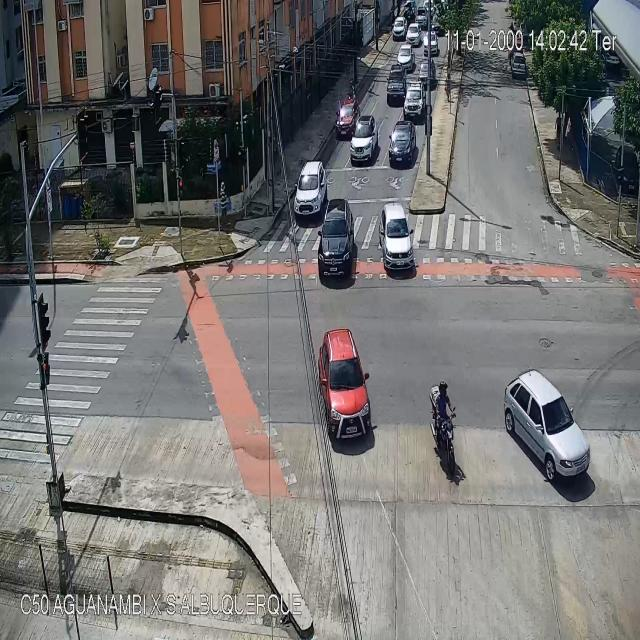Car: (505, 368, 594, 483), (318, 327, 373, 446), (318, 201, 356, 281), (380, 203, 415, 271), (294, 158, 327, 220), (349, 116, 377, 163), (388, 118, 416, 163), (336, 97, 358, 136), (386, 65, 408, 102), (404, 83, 425, 115), (397, 44, 415, 69), (418, 60, 434, 86), (424, 31, 438, 55), (512, 54, 525, 76), (406, 23, 419, 45), (392, 17, 405, 37), (415, 6, 426, 28), (432, 14, 444, 33), (404, 0, 415, 18)
Motorcycle: (430, 381, 457, 474), (348, 81, 355, 97)
